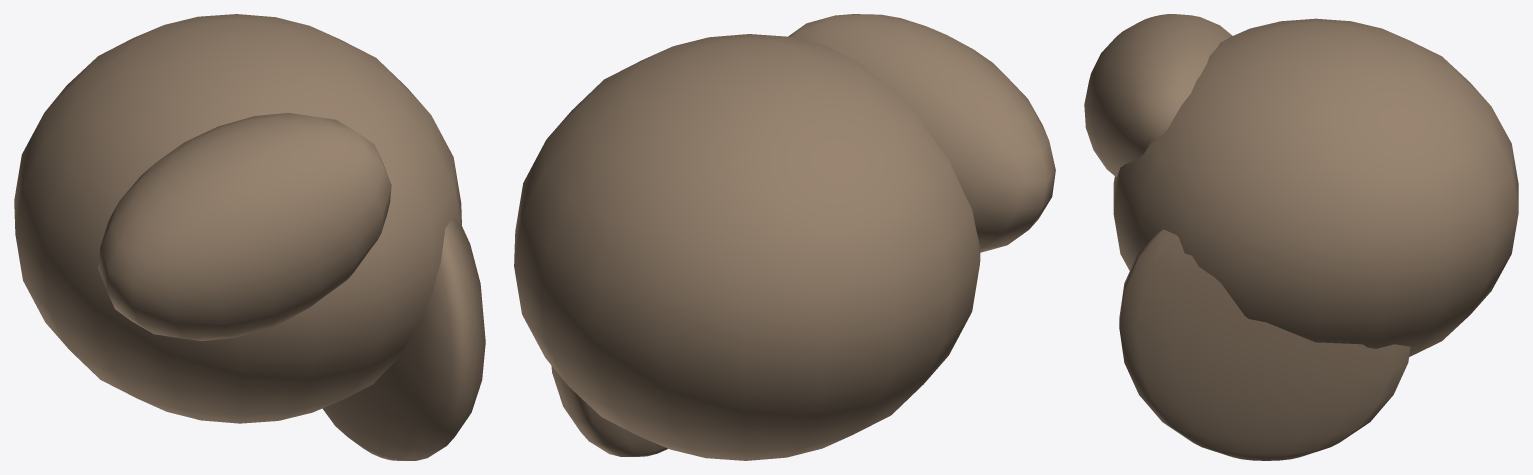
File: hair-side.glb
3 renders of one model, left to right at view 1: azimuth 30°, elevation 25°; view 2: azimuth 150°, elevation 25°; view 3: azimuth 270°, elevation 25°, orthographic. The views are drawn at different scales.
Visible parts, largest first — view 1: Hair; view 2: Hair; view 3: Hair.
Boxes of the visible parts, x1,y1,x2,y2 form: Hair: [14, 14, 485, 460]; Hair: [514, 14, 1055, 460]; Hair: [1084, 14, 1518, 460].
Bounding box in the file's own units: 0.2481 × 0.246 × 0.2618.
